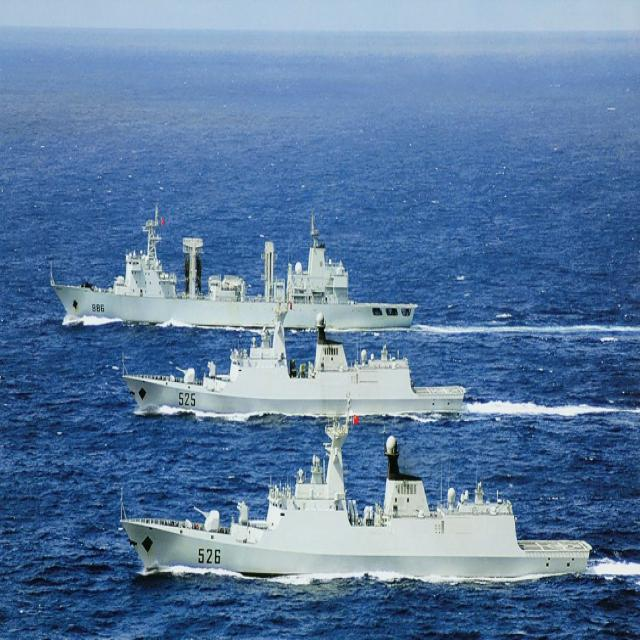navalvessels: (123, 414, 598, 596), (106, 279, 480, 443), (49, 174, 418, 334)
